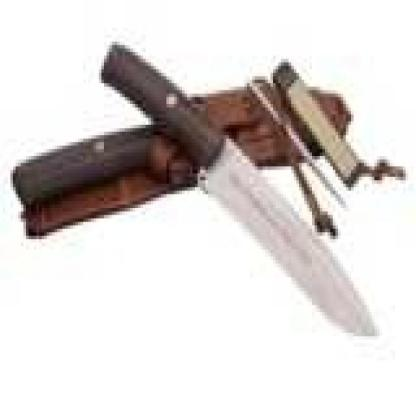Knife: (98, 32, 384, 352)
